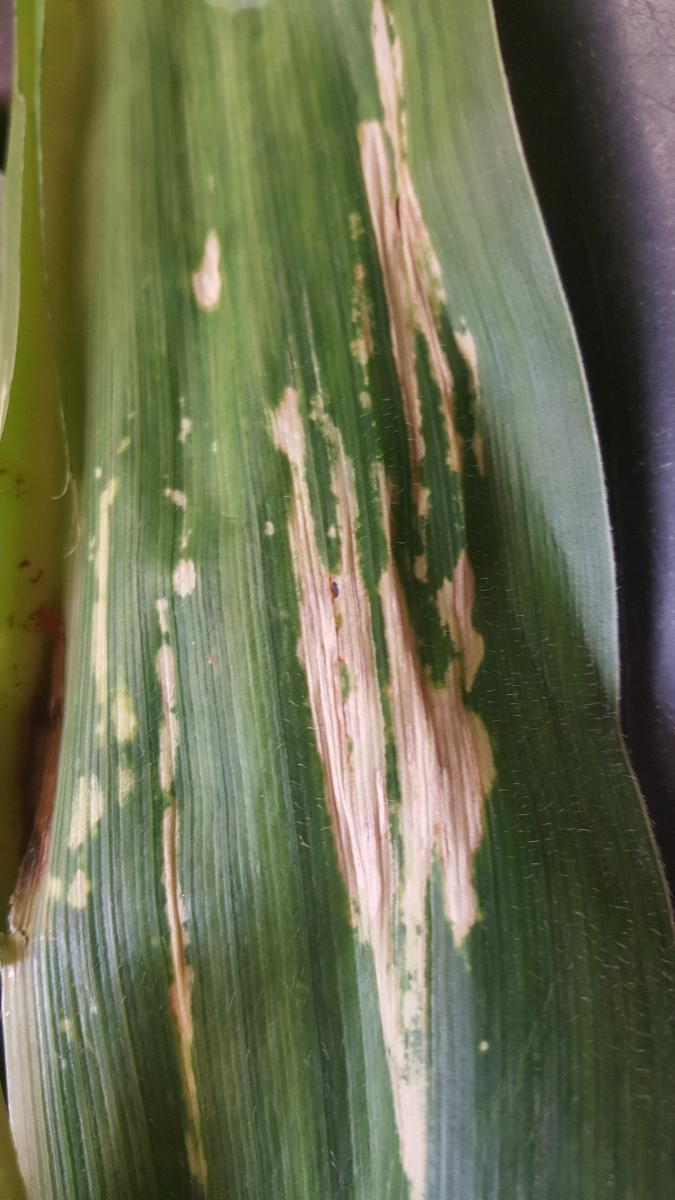Corn_Blight: (333, 3, 505, 1012), (34, 433, 242, 1186), (252, 397, 331, 794), (142, 199, 259, 371)
